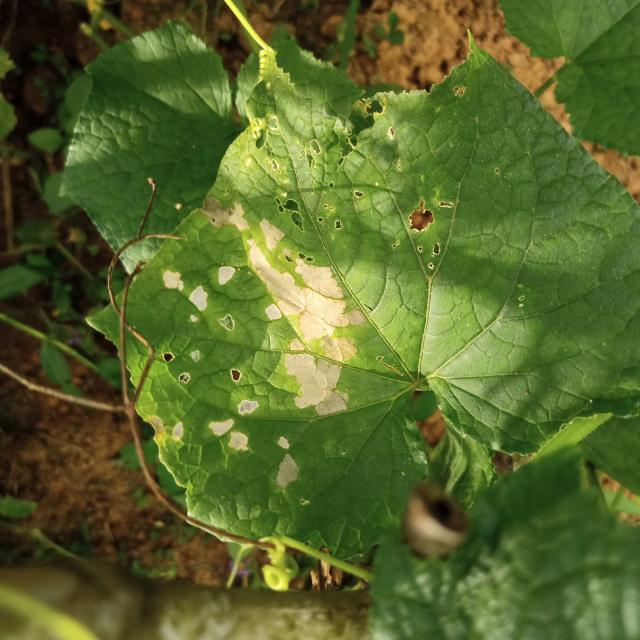disease_cucumber: (147, 194, 360, 496)
